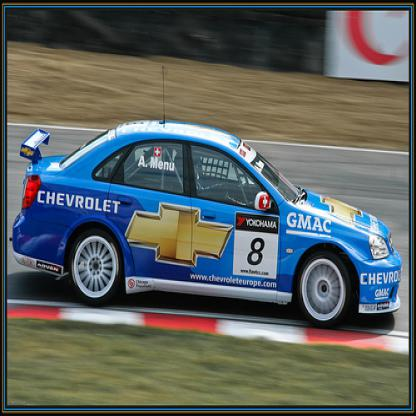car: (11, 115, 402, 326)
